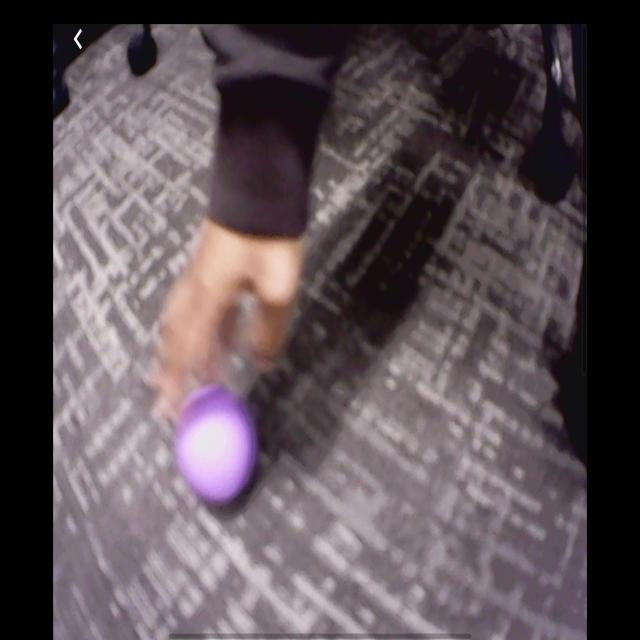ball: (181, 389, 258, 504)
